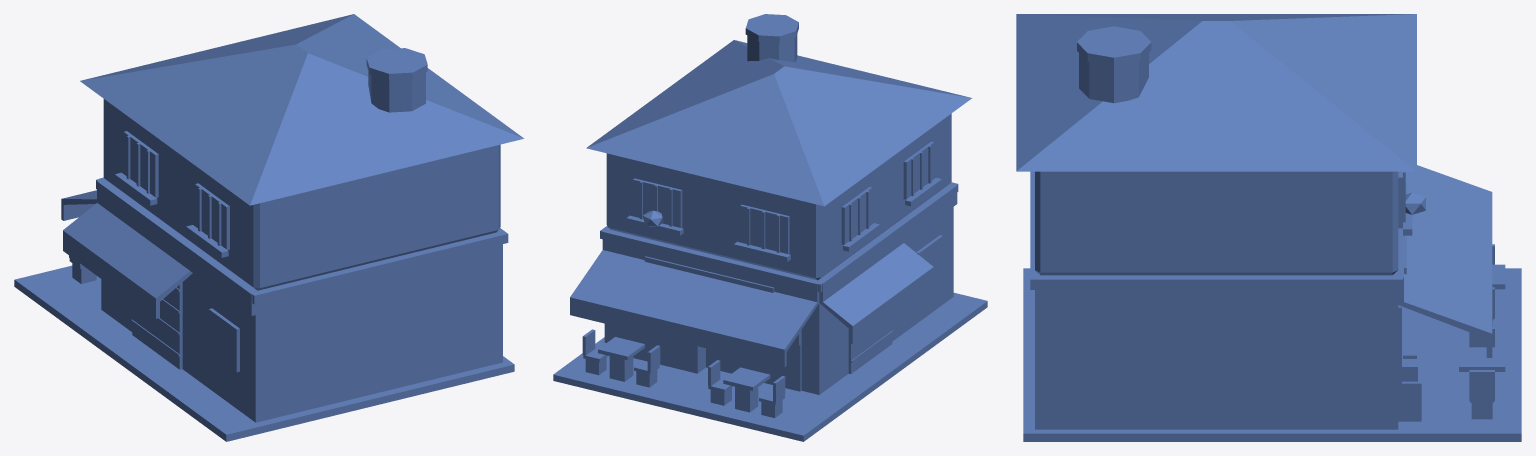
The picture shows the model from 3 angles, left to right: view 1: azimuth 30°, elevation 25°; view 2: azimuth 150°, elevation 25°; view 3: azimuth 270°, elevation 25°; orthographic projection. The views are drawn at different scales.
Visible parts, largest first — view 1: corpo; view 2: corpo; view 3: corpo.
Part boxes in pixels (x1,y1,x2,y2): corpo: (14, 14, 523, 441); corpo: (553, 14, 987, 441); corpo: (1016, 14, 1521, 441).
Size of the model in its own units: 0.872 by 0.84 by 1.09.
